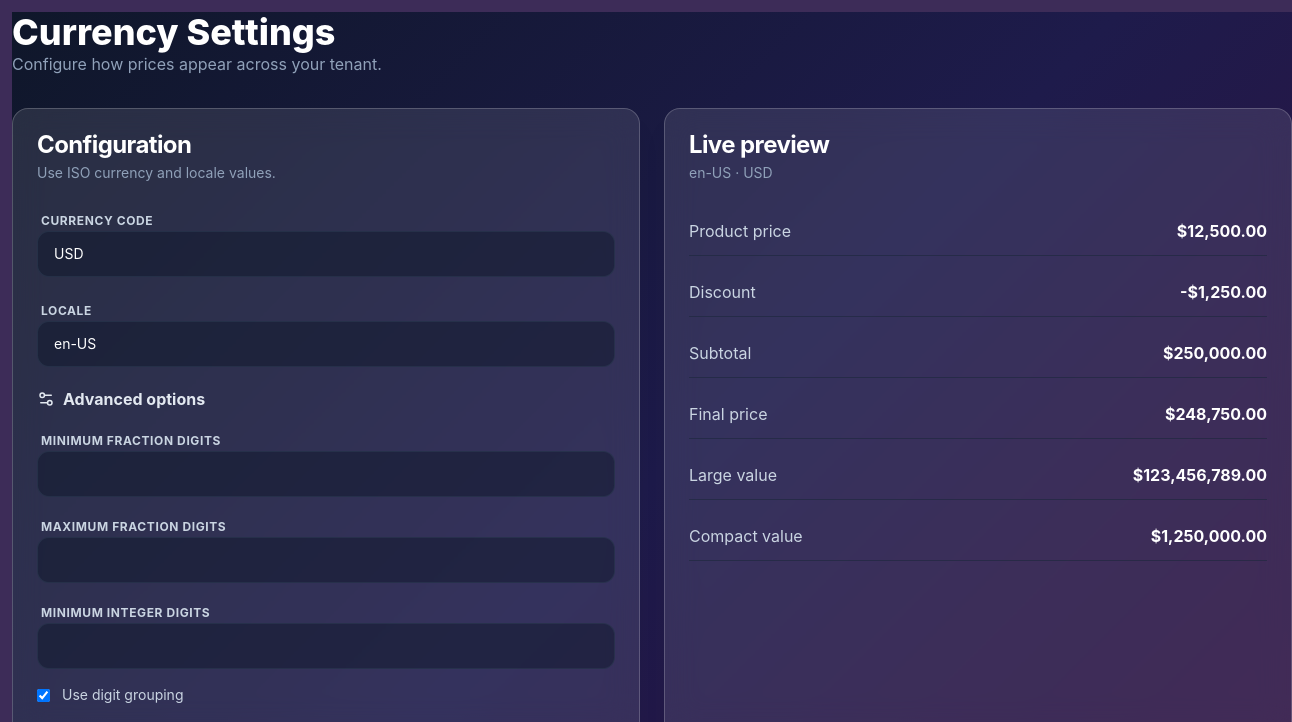
CurrencySettingsPage › updates the live preview when draft values change
Step 1. Replace the text in the field showing "USD" below "Currency code" with "EUR" → (326, 254), box [37,231,615,277]
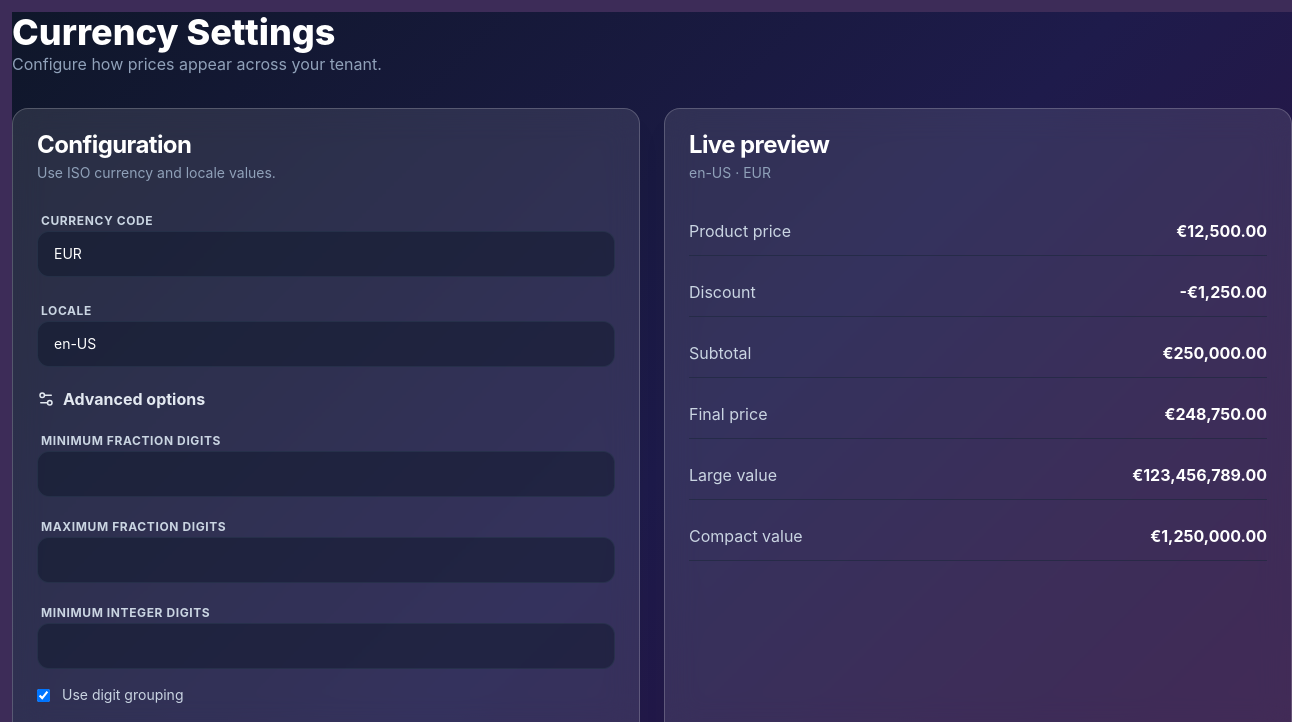
Check: the text "€12,500.00" is shown, box [1176,219,1267,243]
